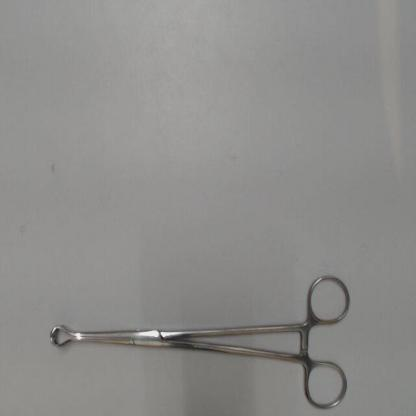8 Babcock Tissue Forceps: (46, 270, 354, 415)
